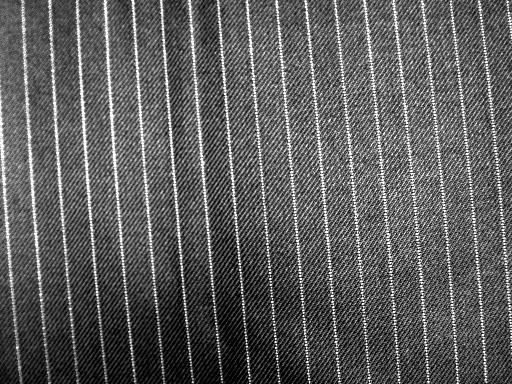fabric_perfect: (2, 3, 510, 383)
